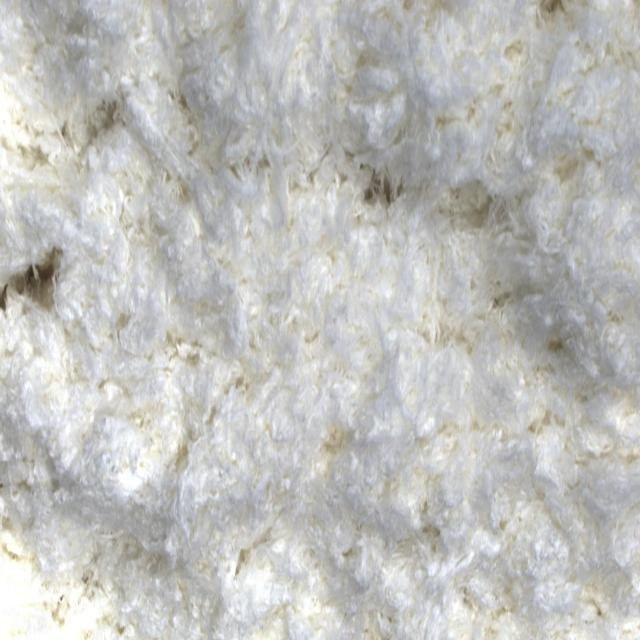dust: (1, 248, 83, 321)
